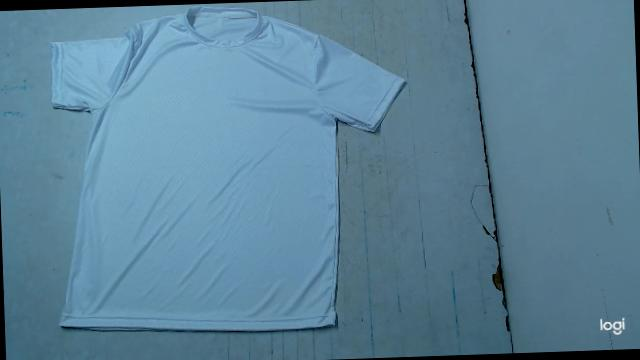new-garment: (51, 7, 404, 331)
